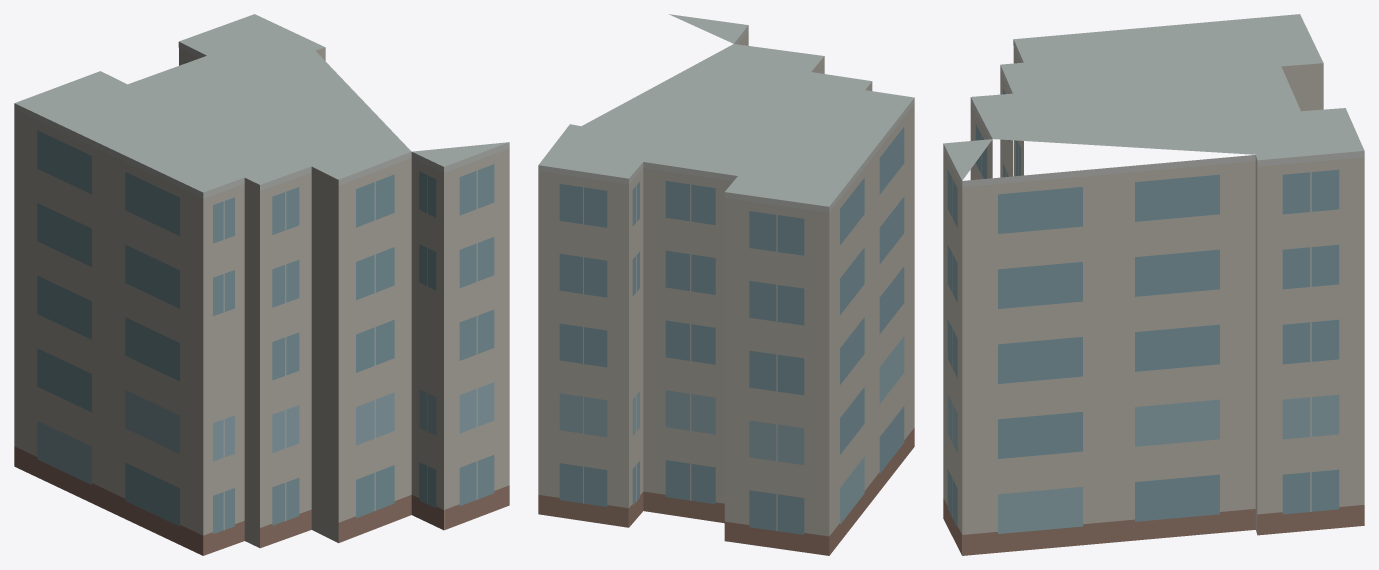
Rendered from survey-upis-32683437.glb.
The picture shows the model from 3 angles, left to right: view 1: azimuth 30°, elevation 25°; view 2: azimuth 150°, elevation 25°; view 3: azimuth 270°, elevation 25°; orthographic projection. The views are drawn at different scales.
Visible parts, largest first — view 1: survey-upis-32683437.tmp; view 2: survey-upis-32683437.tmp; view 3: survey-upis-32683437.tmp.
Part boxes in pixels (bbox=[...]): survey-upis-32683437.tmp: bbox=[14, 14, 509, 555]; survey-upis-32683437.tmp: bbox=[538, 14, 914, 555]; survey-upis-32683437.tmp: bbox=[943, 14, 1364, 555].
Bounding box in the file's own units: 13.95 × 14.6 × 14.88.
